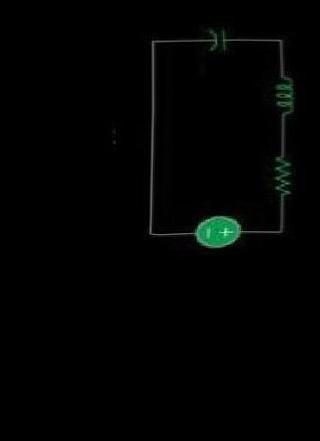Battery: (183, 198, 251, 266)
